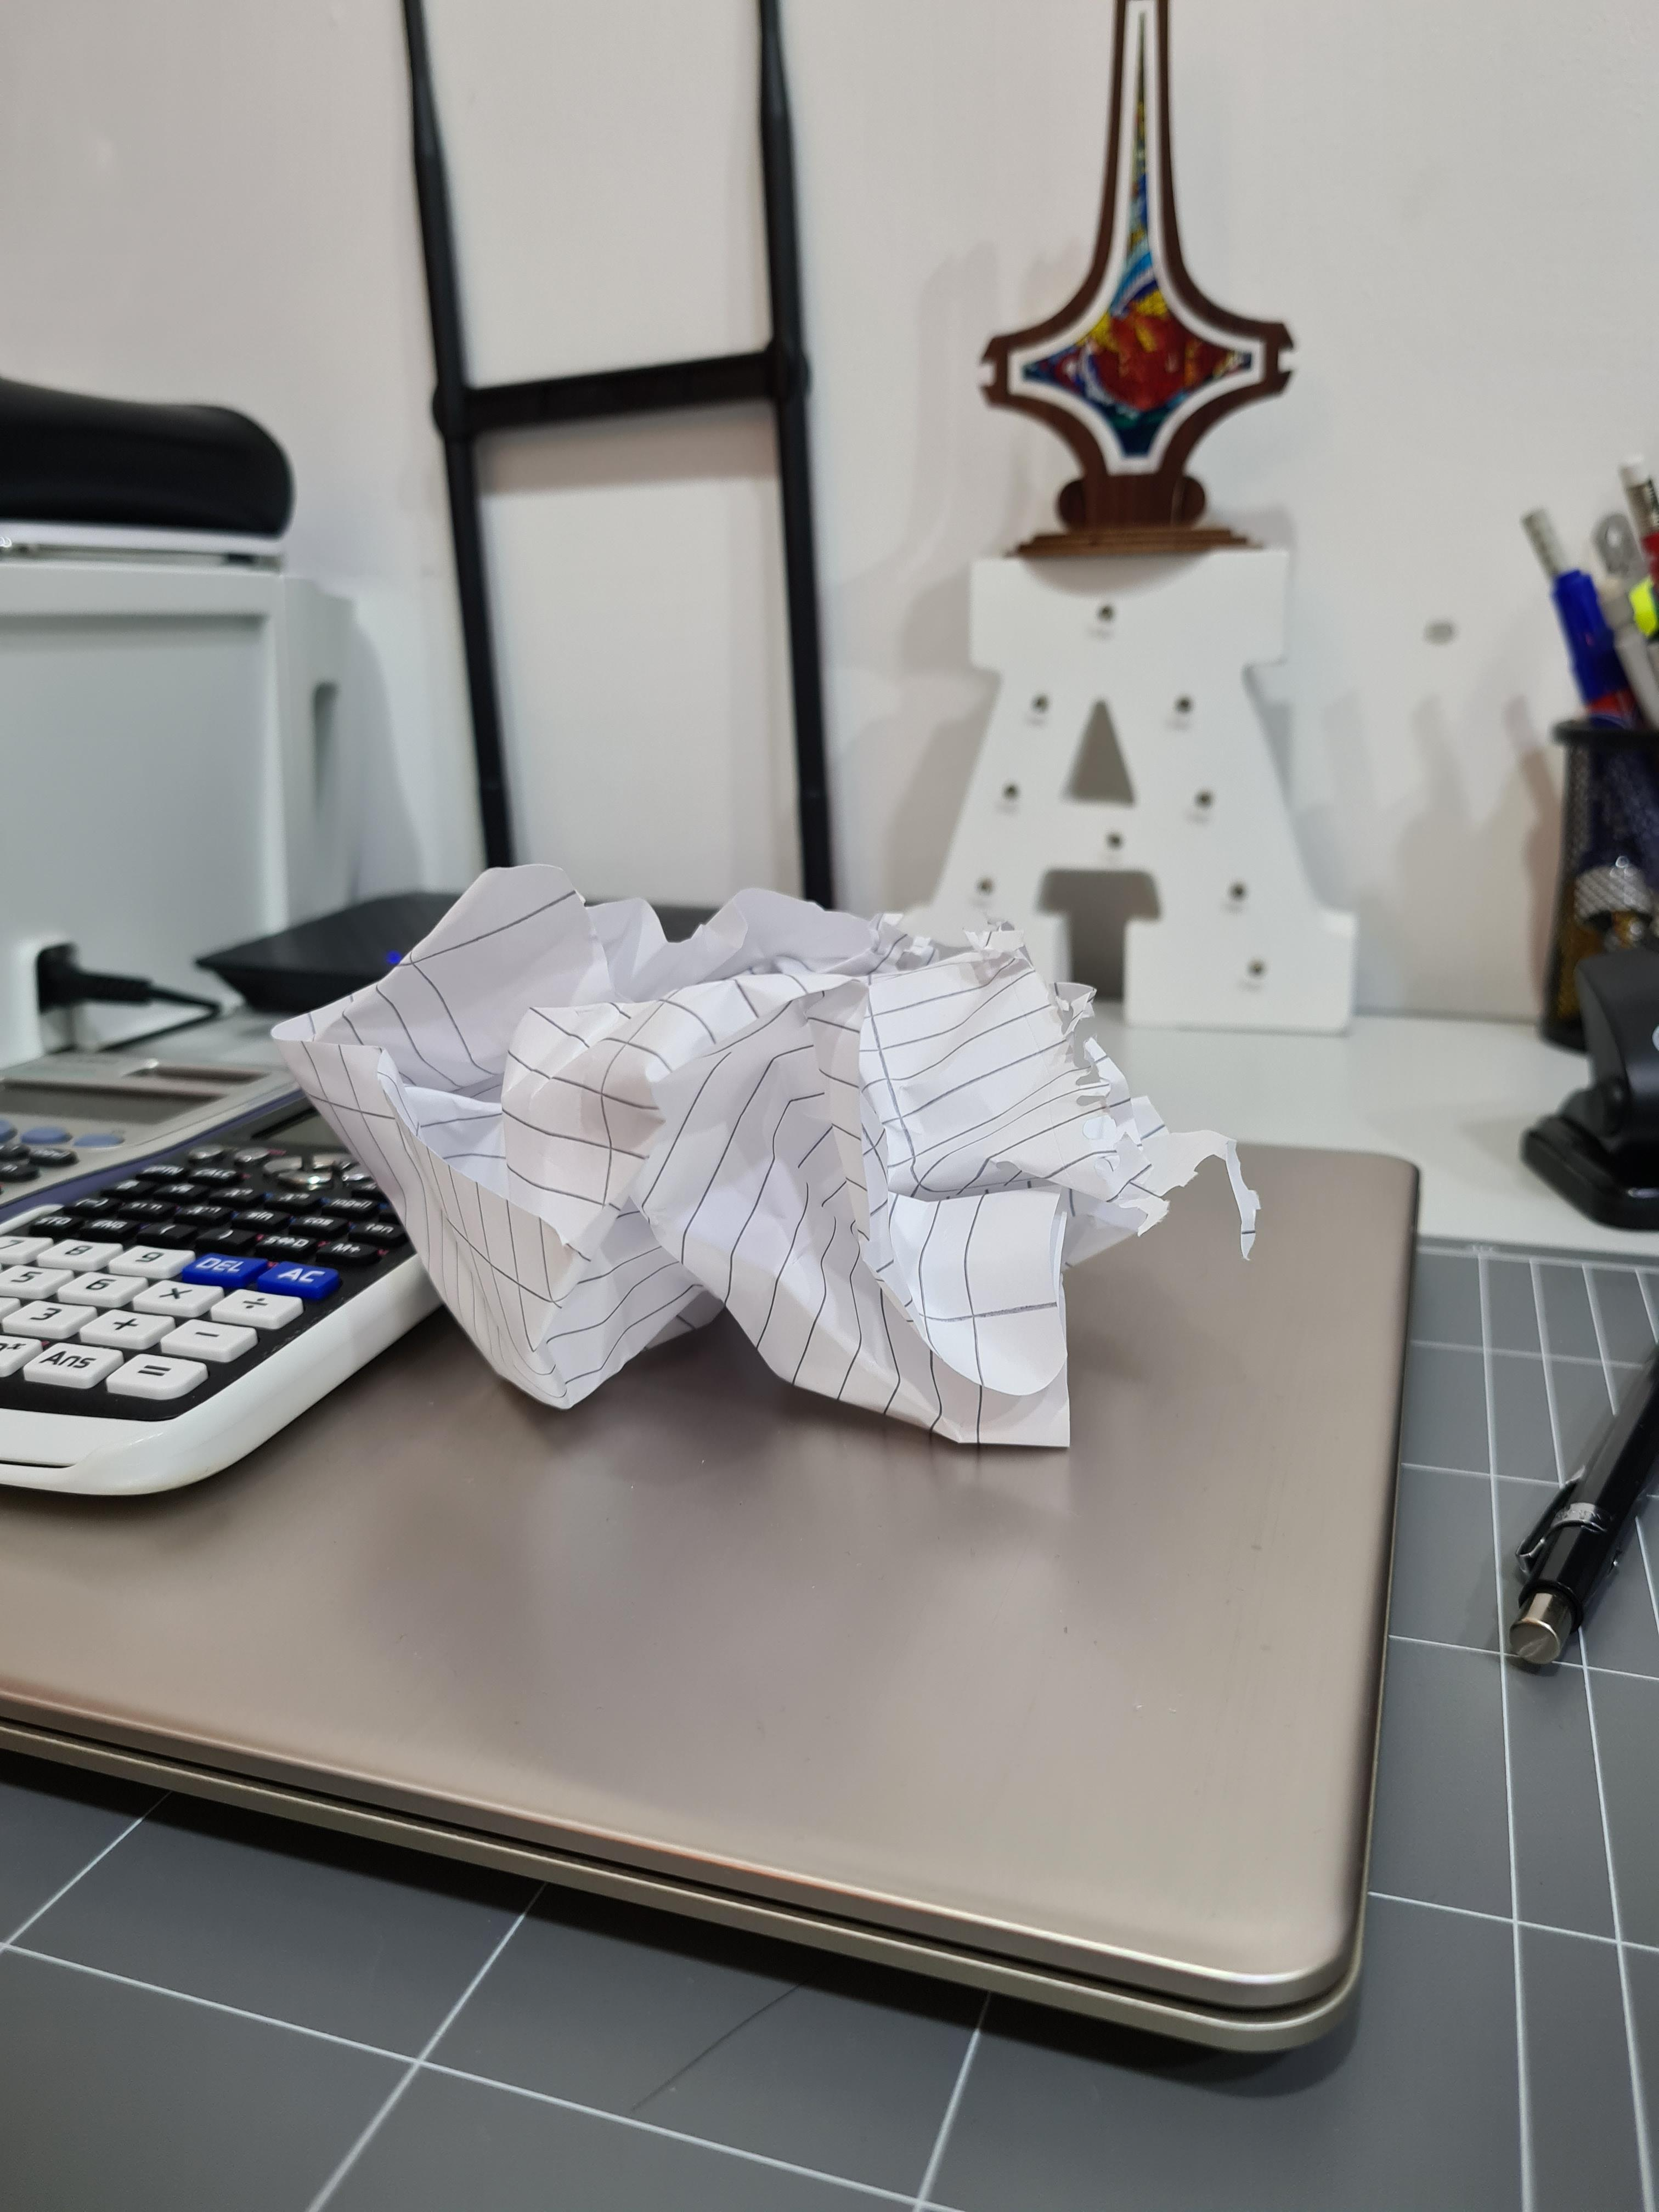Paper: (297, 901, 1182, 1450)
